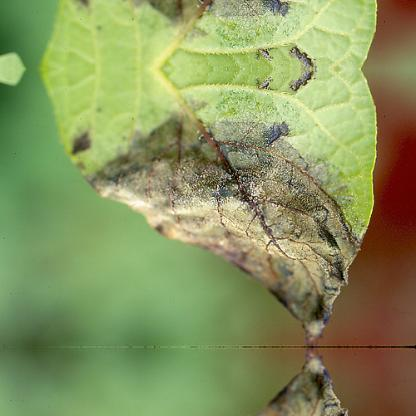Early-Blight: (57, 110, 415, 344), (57, 349, 415, 416)
